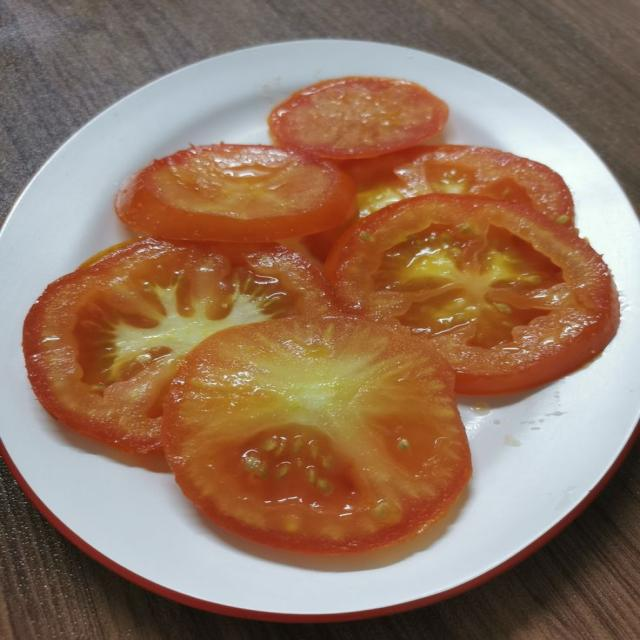sliced_tomato: (163, 317, 471, 553), (24, 239, 332, 452), (327, 195, 619, 394), (303, 145, 573, 259), (115, 145, 354, 242), (341, 145, 573, 227), (268, 77, 448, 159)
